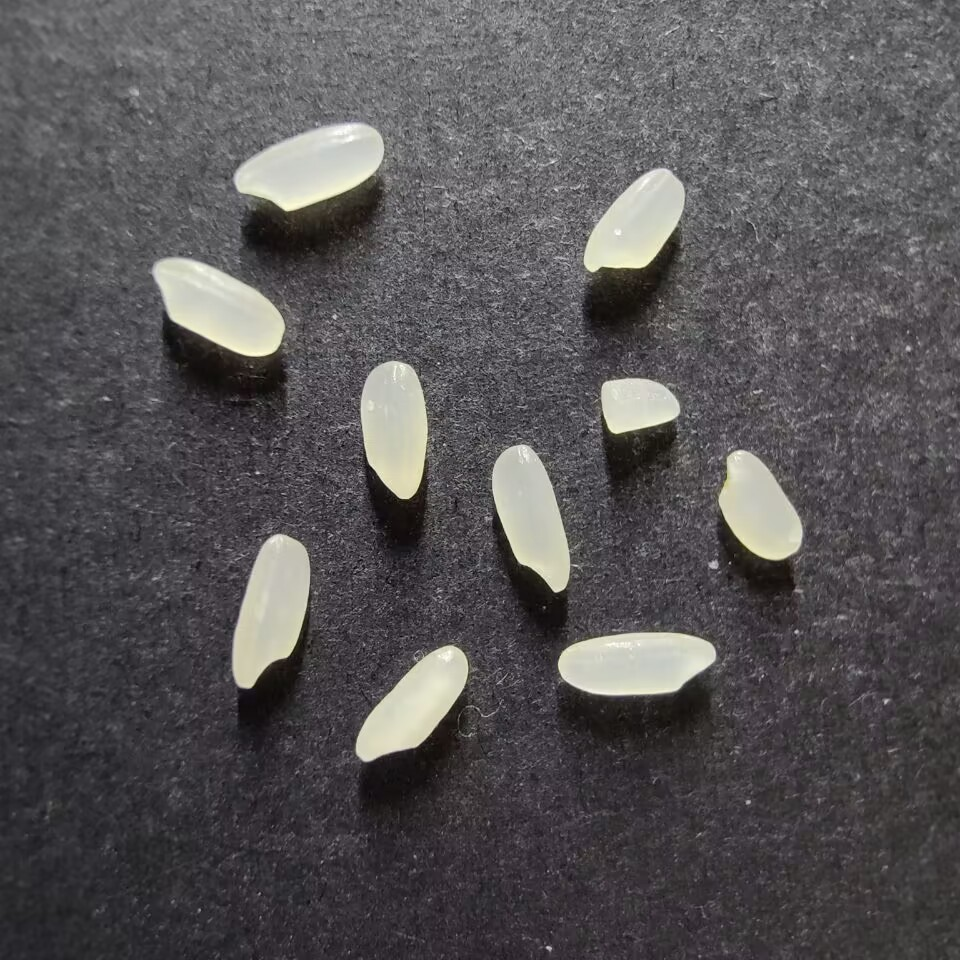broken: (600, 377, 680, 434)
rice: (354, 644, 469, 763), (234, 122, 384, 212), (582, 164, 699, 278), (152, 257, 284, 357), (230, 533, 311, 689), (490, 445, 569, 593), (557, 631, 717, 696), (359, 360, 428, 500), (717, 449, 803, 560)
